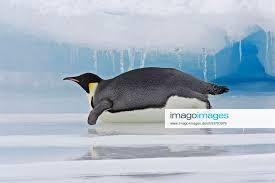emporer: (55, 64, 236, 134)
